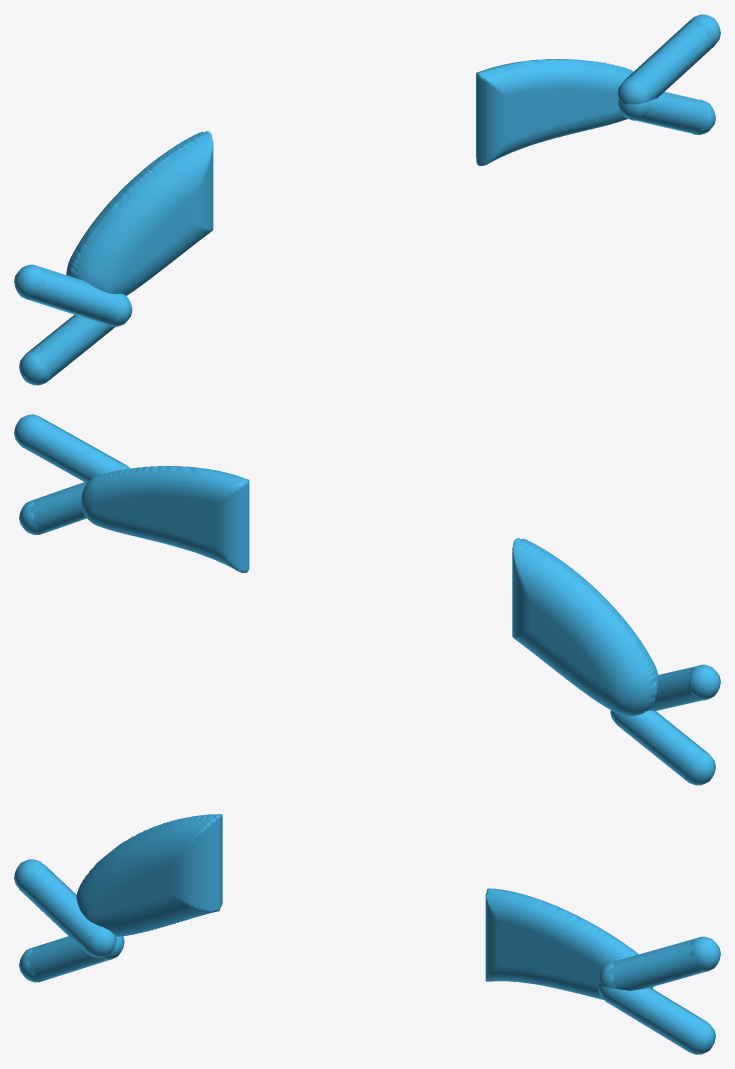
The model's file is pincher.glb.
The picture shows the model from 3 angles, top to bottom: view 1: azimuth 30°, elevation 25°; view 2: azimuth 150°, elevation 25°; view 3: azimuth 330°, elevation 25°; orthographic projection.
Visible parts, largest first — view 1: pincher_28_solid, pincher_30_solid, pincher_-102_line, pincher_-100_line, pincher_-101_line, pincher_-103_line; view 2: pincher_28_solid, pincher_30_solid, pincher_-101_line, pincher_-102_line, pincher_-103_line, pincher_-100_line; view 3: pincher_28_solid, pincher_30_solid, pincher_-102_line, pincher_-100_line, pincher_-103_line, pincher_-101_line.
Boxes of the visible parts, box(x1,y1,x2,y2) form: pincher_28_solid: box(66, 131, 213, 295); pincher_30_solid: box(476, 59, 633, 165); pincher_-102_line: box(617, 14, 720, 104); pincher_-100_line: box(14, 264, 132, 326); pincher_-101_line: box(19, 314, 114, 385); pincher_-103_line: box(617, 91, 715, 134); pincher_28_solid: box(512, 538, 658, 716); pincher_30_solid: box(81, 466, 249, 572); pincher_-101_line: box(610, 710, 715, 785); pincher_-102_line: box(14, 414, 130, 483); pincher_-103_line: box(19, 482, 86, 534); pincher_-100_line: box(649, 664, 720, 710); pincher_28_solid: box(76, 814, 222, 936); pincher_30_solid: box(485, 888, 653, 999); pincher_-102_line: box(598, 936, 720, 990); pincher_-100_line: box(14, 859, 116, 957); pincher_-103_line: box(598, 983, 715, 1054); pincher_-101_line: box(19, 936, 124, 982).
Size of the model in its own units: 1.12 by 0.3141 by 0.1063.
